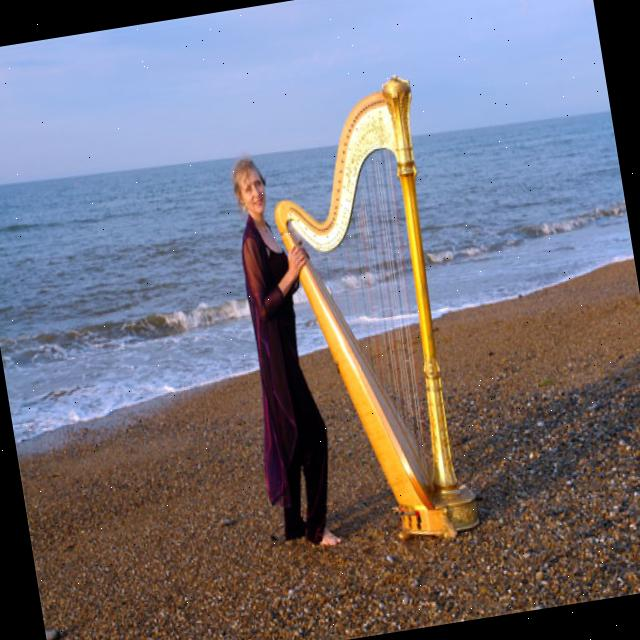harp: (252, 56, 488, 556)
